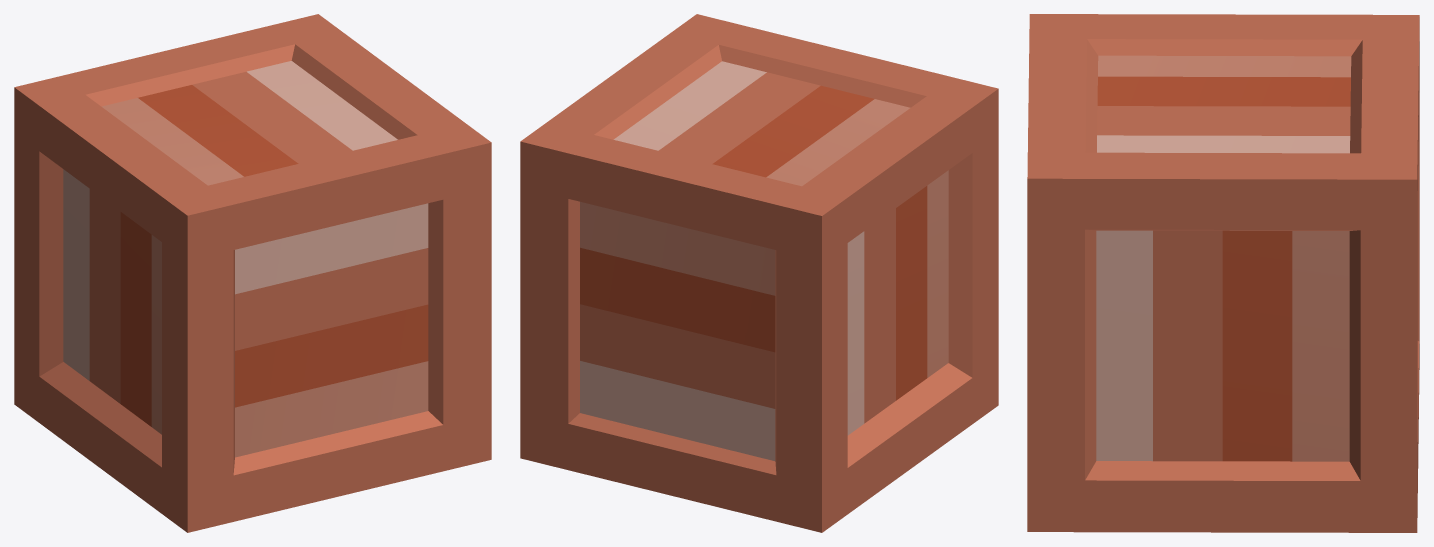
File: n4_box_001_lev4.glb
The picture shows the model from 3 angles, left to right: view 1: azimuth 30°, elevation 25°; view 2: azimuth 150°, elevation 25°; view 3: azimuth 270°, elevation 25°; orthographic projection. The views are drawn at different scales.
Parts seen in each view (by area): view 1: n4_box_001_lev4; view 2: n4_box_001_lev4; view 3: n4_box_001_lev4.
Boxes of the visible parts, left/top/right/bottom form: n4_box_001_lev4: left=14, top=14, right=491, bottom=532; n4_box_001_lev4: left=520, top=14, right=998, bottom=532; n4_box_001_lev4: left=1027, top=14, right=1419, bottom=532.
Size of the model in its own units: 0.5416 by 0.5386 by 0.5416.
Materials: 1 (1 with a texture image).
